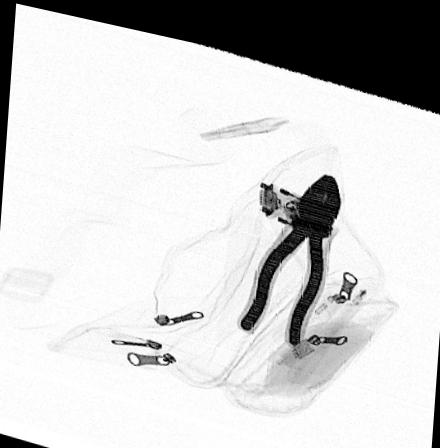Pliers: (234, 157, 342, 335)
